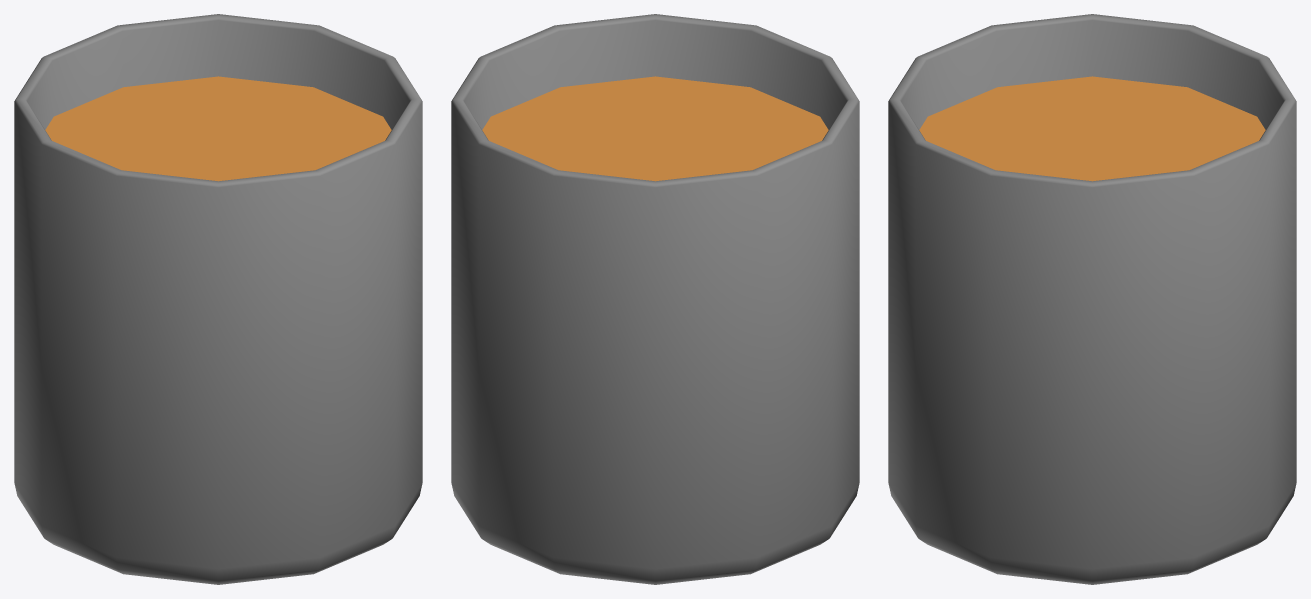
Rendered from Cup-ThickCup.fbx.
3 renders of one model, left to right at view 1: azimuth 30°, elevation 25°; view 2: azimuth 150°, elevation 25°; view 3: azimuth 270°, elevation 25°, orthographic.
Visible parts, largest first — view 1: Cup-ThickCup; view 2: Cup-ThickCup; view 3: Cup-ThickCup.
Boxes of the visible parts, bbox=[...] form: Cup-ThickCup: bbox=[14, 14, 422, 584]; Cup-ThickCup: bbox=[451, 14, 859, 584]; Cup-ThickCup: bbox=[888, 14, 1296, 584].
Bounding box in the file's own units: 501 × 548 × 501.
